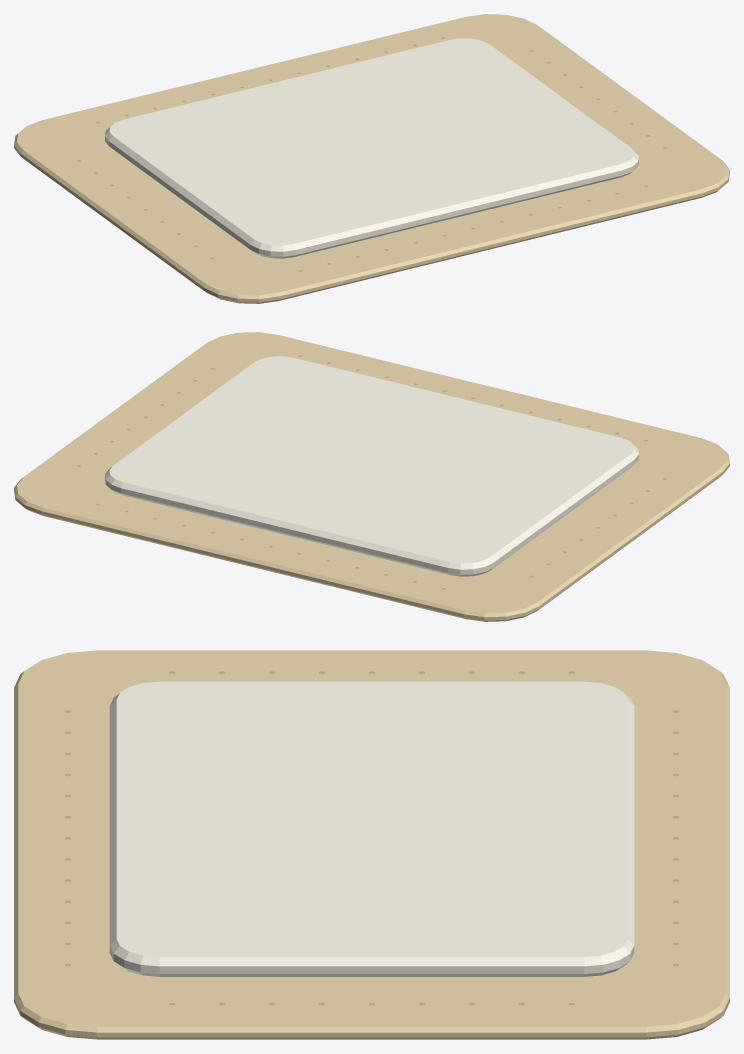
The model's file is AdhesiveDressing.fbx.
3 views of the same model, one above another, from view 1: azimuth 30°, elevation 25°; view 2: azimuth 150°, elevation 25°; view 3: azimuth 270°, elevation 25° (orthographic). The views are drawn at different scales.
Visible parts, largest first — view 1: Absorbent centre, Soft adhesive border; view 2: Absorbent centre, Soft adhesive border; view 3: Absorbent centre, Soft adhesive border, Border ventilation texture.
Boxes of the visible parts, box(x1,y1,x2,y2) form: Absorbent centre: box(105, 38, 638, 258); Soft adhesive border: box(14, 14, 729, 303); Absorbent centre: box(105, 356, 638, 576); Soft adhesive border: box(14, 332, 729, 621); Absorbent centre: box(109, 681, 634, 976); Soft adhesive border: box(14, 650, 729, 1039); Border ventilation texture: box(65, 671, 678, 1005).
Size of the model in its own units: 0.108 by 0.00425 by 0.086.
